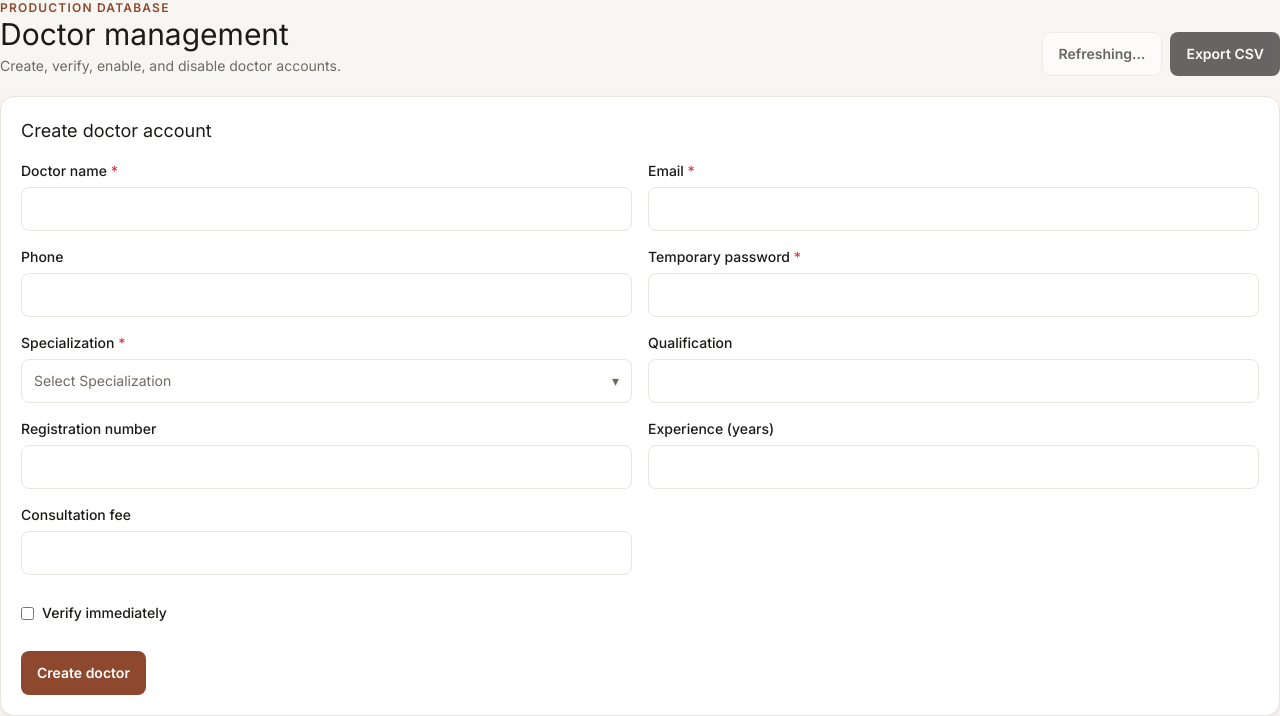
Test: DoctorVerification › creates a doctor account with correctly-typed fields
Type "Dr. Fresh" into the field labelled "Doctor name *" at (326, 209), box [21,187,632,231]
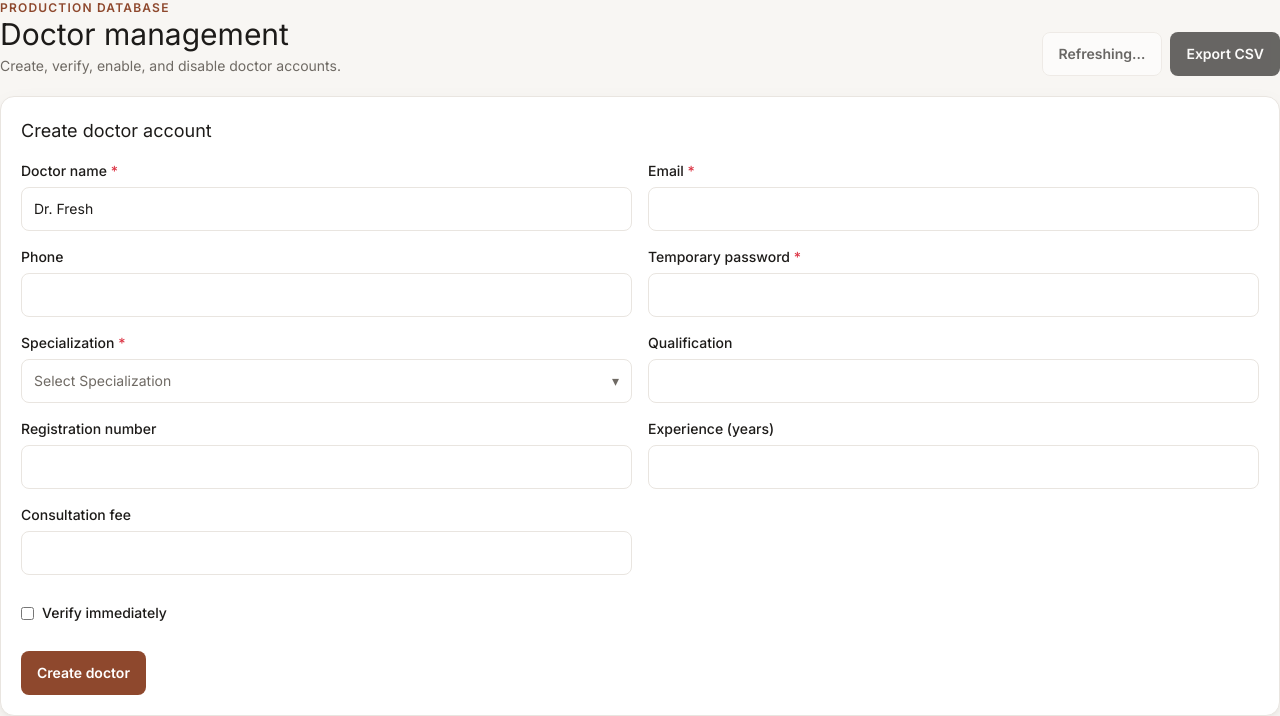
Type "fresh@example.com" into the field labelled "Email *" at (954, 209), box [648,187,1259,231]
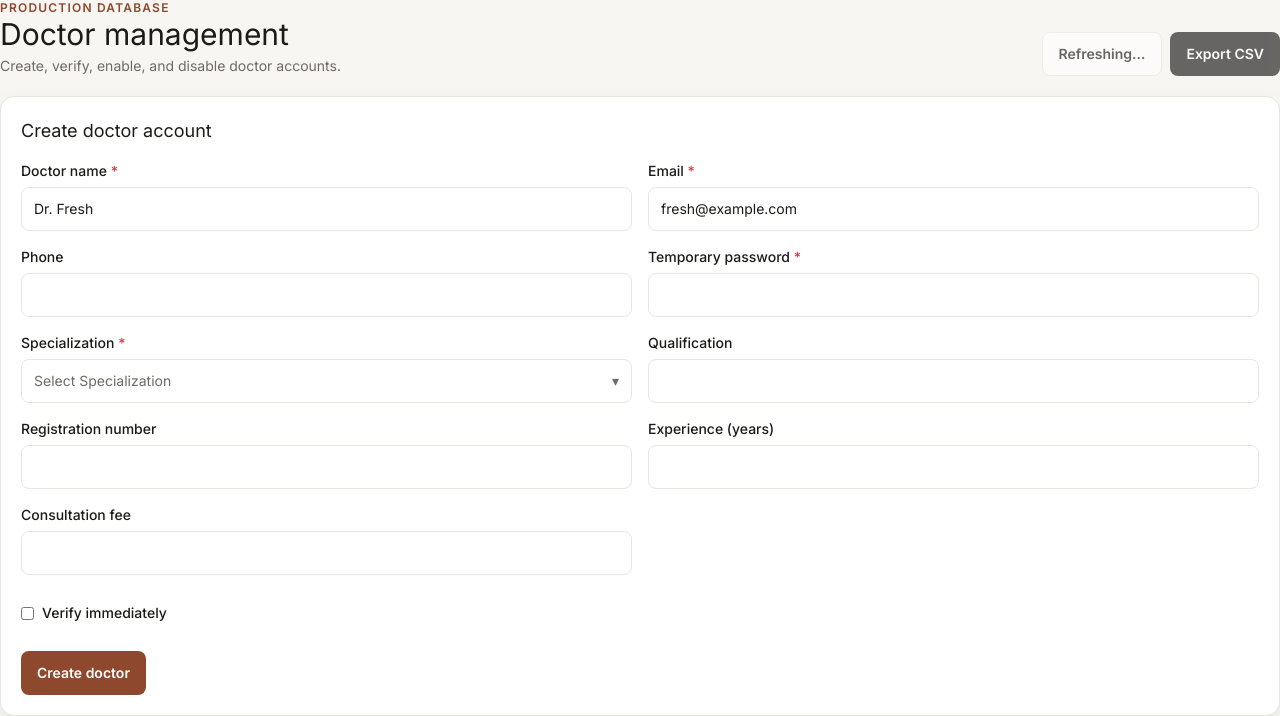
Type "temp12345" into the password field labelled "Temporary password *" at (954, 295), box [648,273,1259,317]
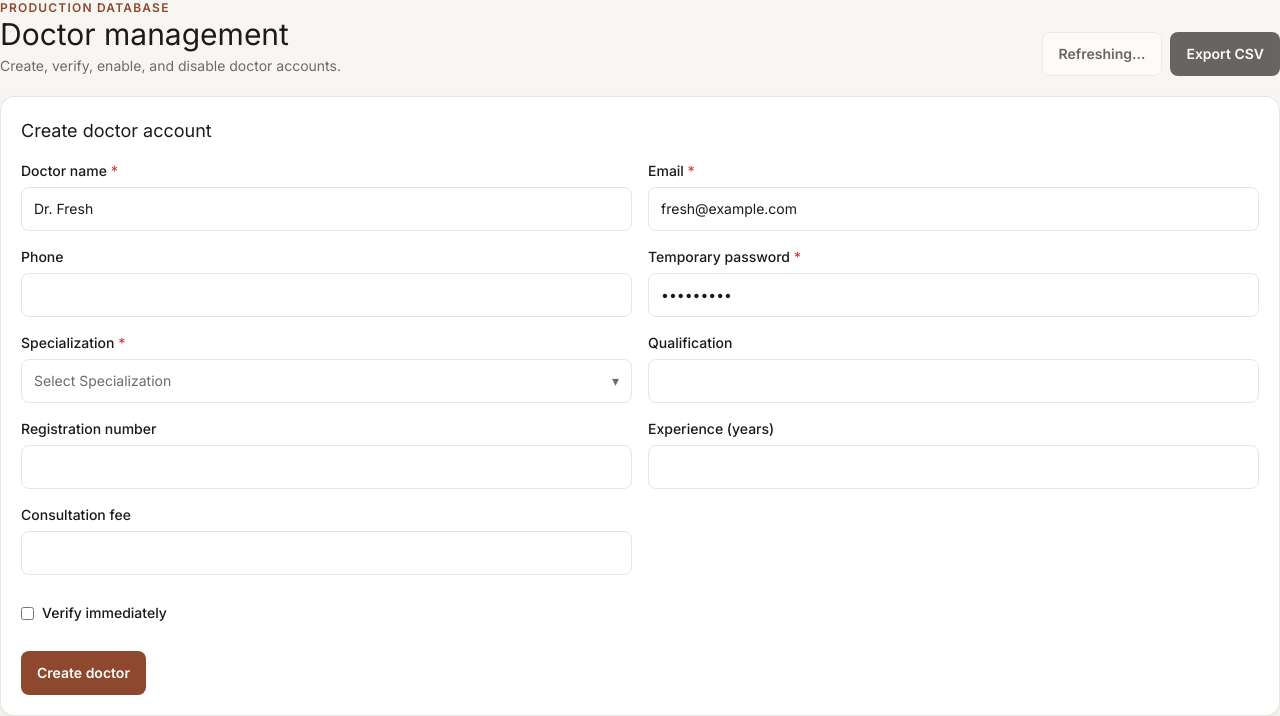
Select "Cardiology" in the dropdown labelled "Specialization * Select Specialization ▾" at (326, 368), box [21,333,632,403]
Type "4" into the number field labelled "Experience (years)" at (954, 467), box [648,445,1259,489]
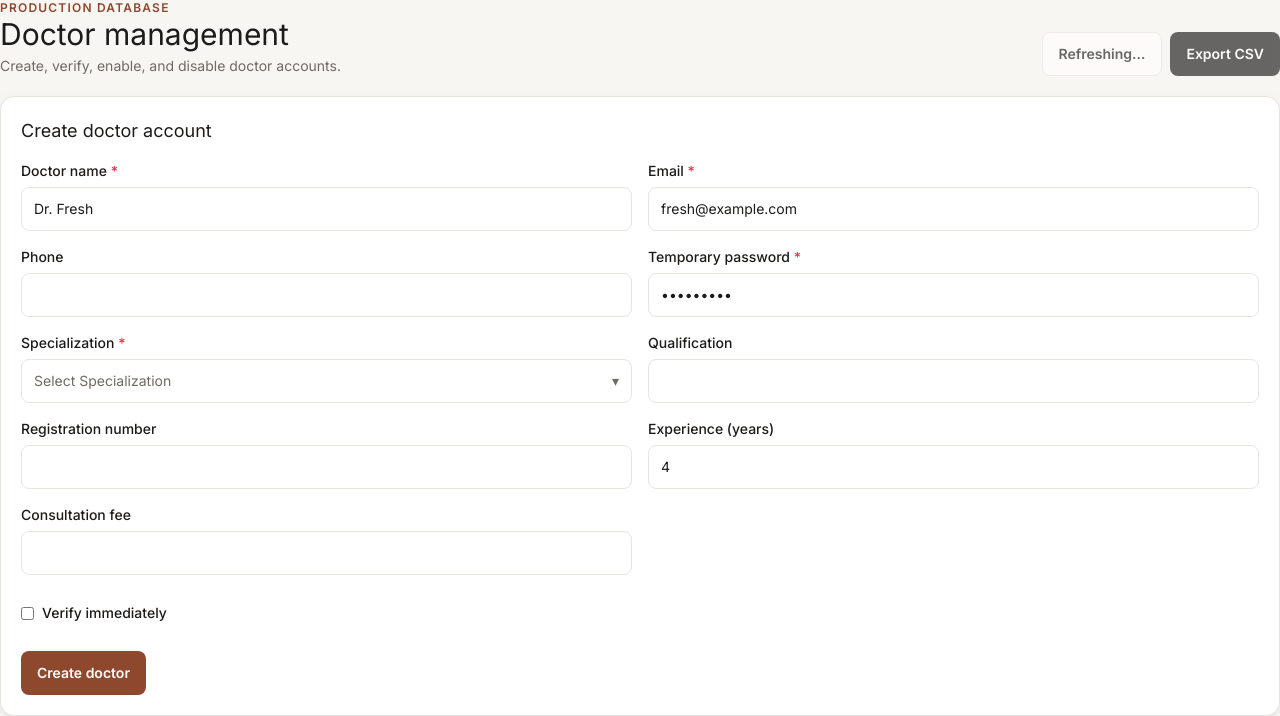
Type "650" into the number field labelled "Consultation fee" at (326, 553), box [21,531,632,575]
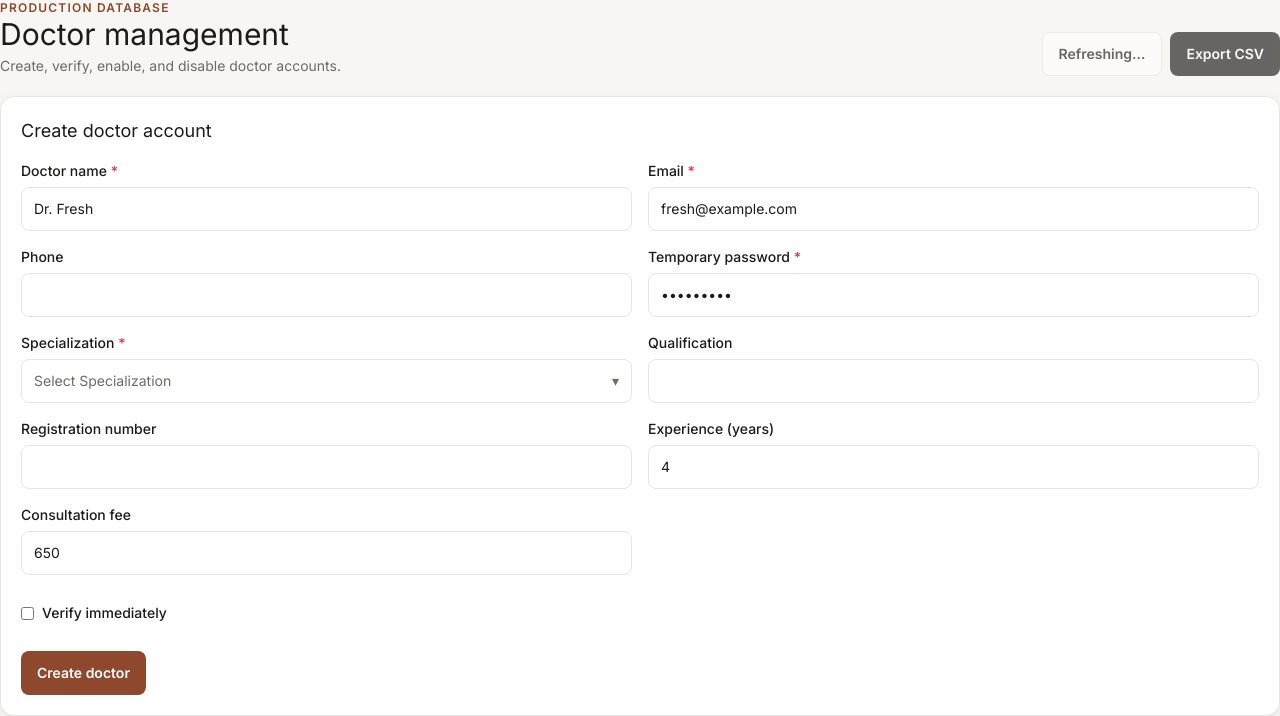
Click the button "Create doctor" at (83, 673), box [21,651,146,695]
(page scrolled)
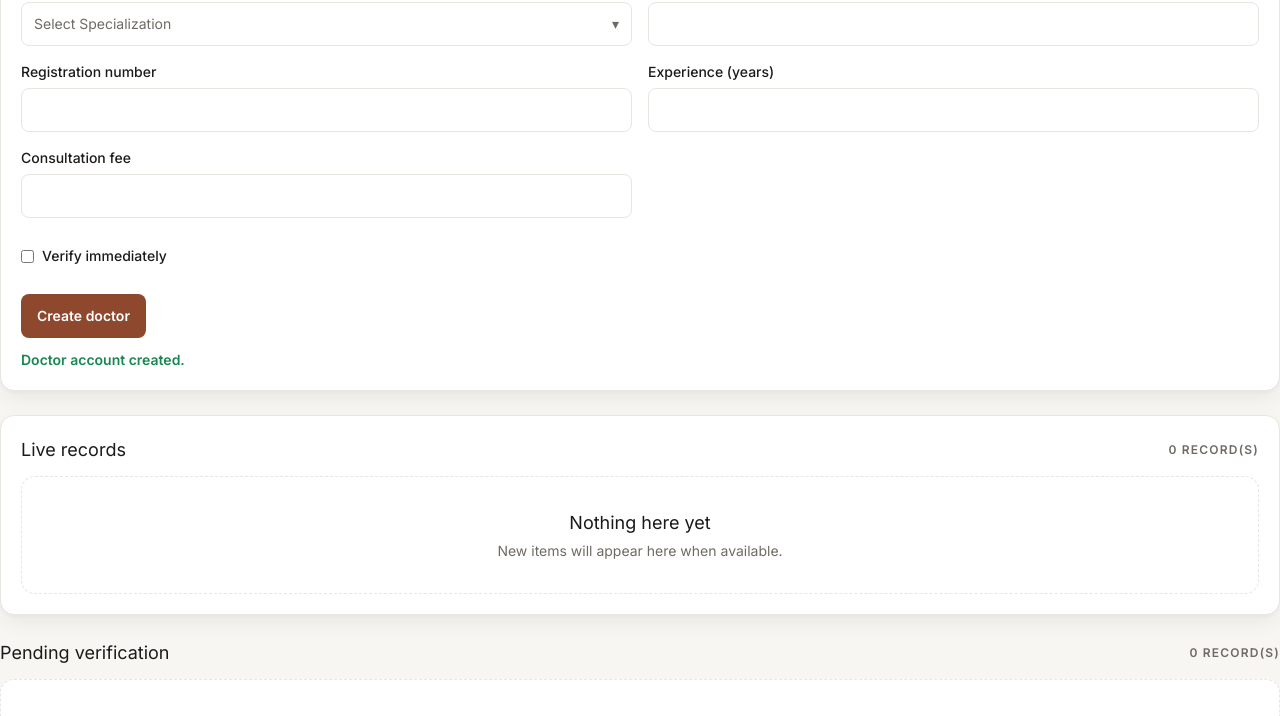
Expected: the text "Doctor account created." is shown, [21,351,185,368]
